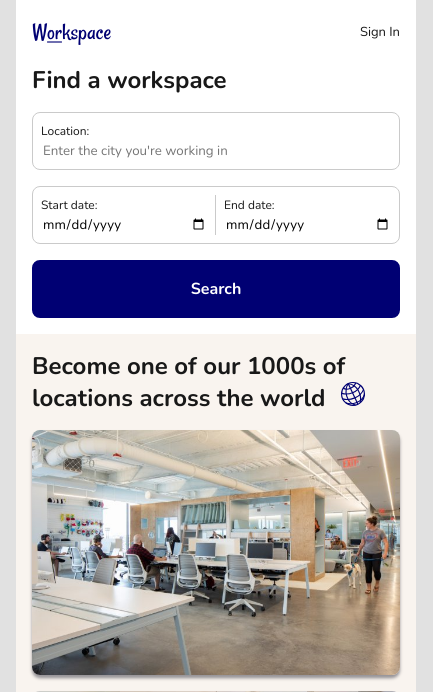
Test: logs in with mocked credentials and shows signed-in navigation
Click the list item "Sign In".
click(380, 32)  # box 360,23 -> 400,41
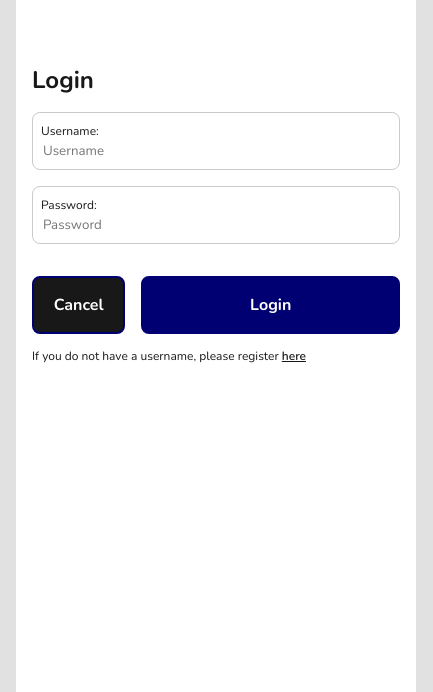
Type "test" into the field labelled "Username:".
click(216, 151); type("test")  # box 41,141 -> 391,161
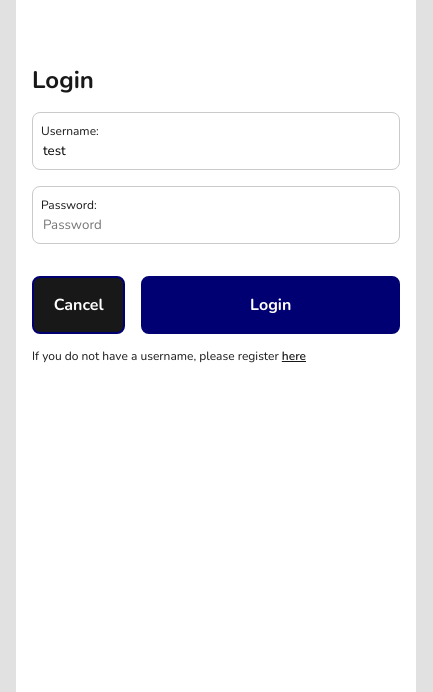
Type "password" into the password field labelled "Password:".
click(216, 225); type("password")  # box 41,215 -> 391,235
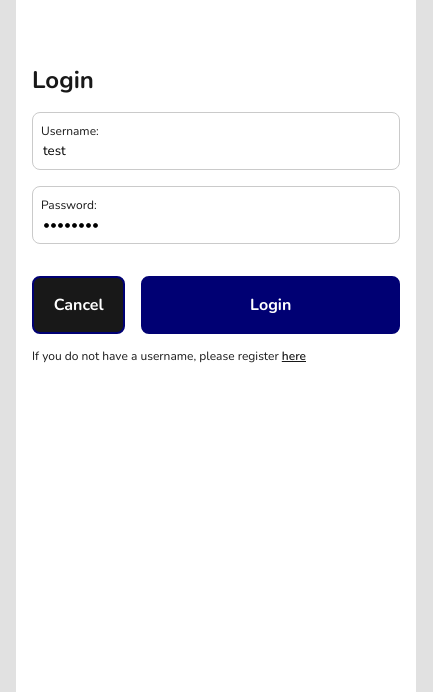
Click the button "Login".
click(271, 305)  # box 141,276 -> 400,334
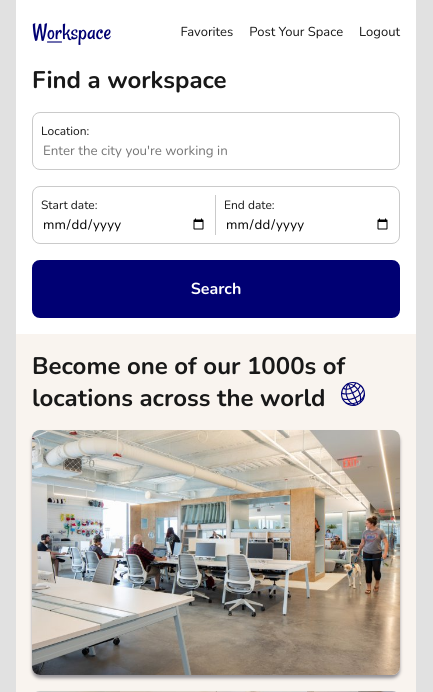
Result: the link "Favorites" is shown at 180,23 -> 233,41
Result: the link "Post Your Space" is shown at 249,23 -> 343,41
Result: the list item "Logout" is shown at 359,23 -> 400,41
